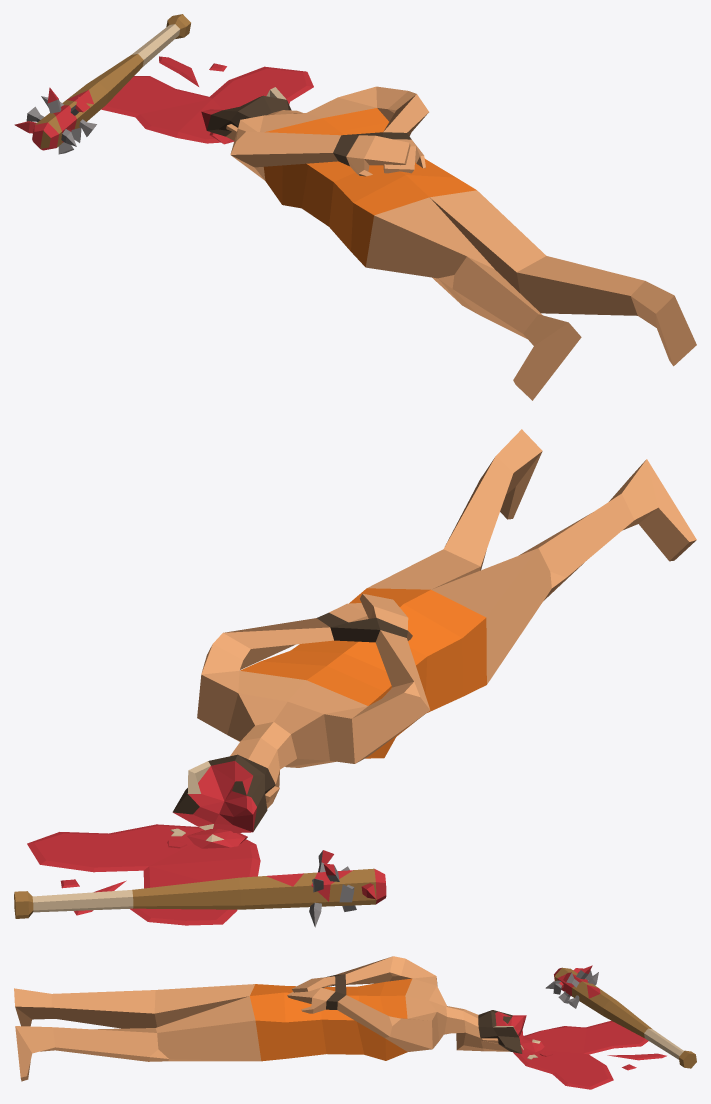
Rendered from apocalypse-woman-swimming-dead-a.glb.
The picture shows the model from 3 angles, top to bottom: view 1: azimuth 30°, elevation 25°; view 2: azimuth 150°, elevation 25°; view 3: azimuth 270°, elevation 25°; orthographic projection. The views are drawn at different scales.
Visible parts, largest first — view 1: woman-swimming-dead-a; view 2: woman-swimming-dead-a; view 3: woman-swimming-dead-a.
Boxes of the visible parts, box(x1,y1,x2,y2) form: woman-swimming-dead-a: box(14, 14, 696, 400); woman-swimming-dead-a: box(14, 429, 696, 927); woman-swimming-dead-a: box(14, 956, 696, 1089).
Size of the model in its own units: 0.8712 by 0.2962 by 2.39.
